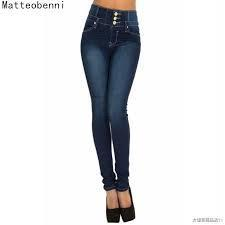pants: (81, 3, 141, 193)
